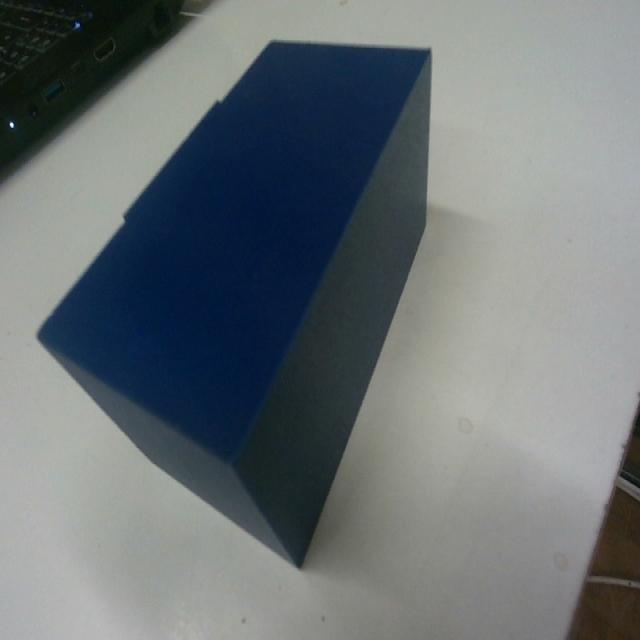Blue Cuboid: (35, 35, 434, 568)
